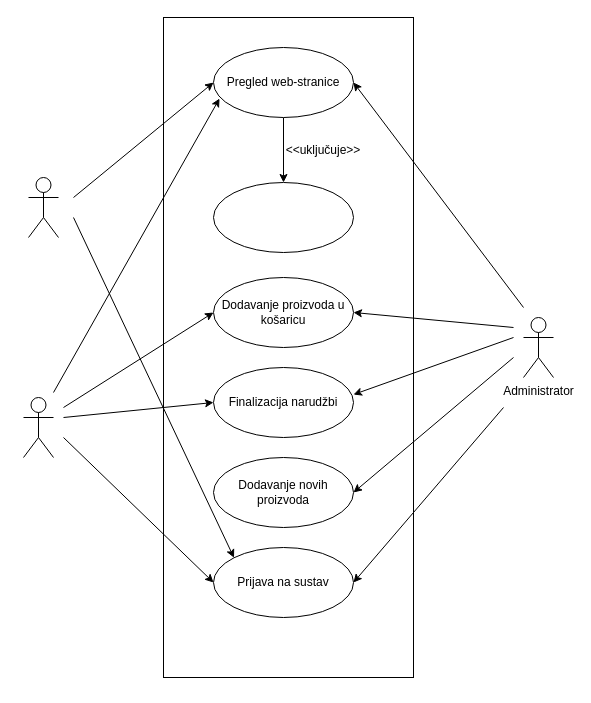
The diagram is 591 pixels wide and 703 high, and some of its shapes have lost their labels. The shapes that lost their labels are listed below. From the top down, each one's centre as x and y in pixels, then its label:
At (x=43, y=207): "Gost".
At (x=283, y=217): "Pregled proizvoda/ponude".
At (x=38, y=427): "Korisnik".
